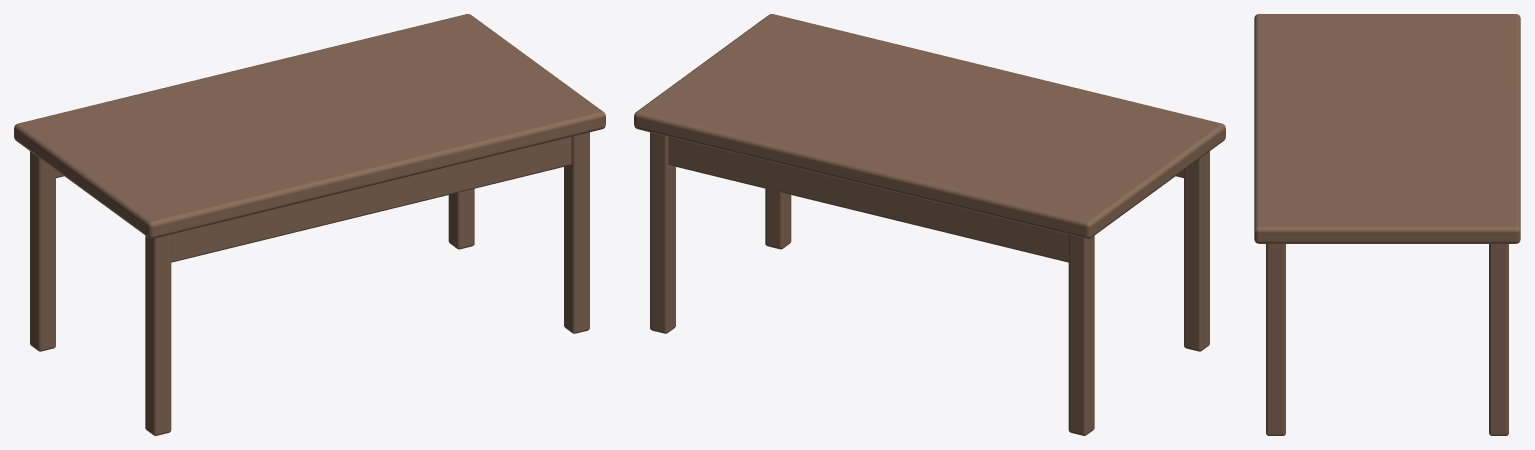
Rendered from paranormal-investigation-house-dining-table-b3c73c2d__26725.glb.
3 views of the same model, side by side, from view 1: azimuth 30°, elevation 25°; view 2: azimuth 150°, elevation 25°; view 3: azimuth 270°, elevation 25° (orthographic). The views are drawn at different scales.
Parts seen in each view (by area): view 1: dining-table; view 2: dining-table; view 3: dining-table.
Boxes of the visible parts, x1,y1,x2,y2 form: dining-table: [14, 14, 605, 435]; dining-table: [634, 14, 1225, 435]; dining-table: [1254, 14, 1520, 435].
Bounding box in the file's own units: 1.65 × 0.76 × 0.86.
